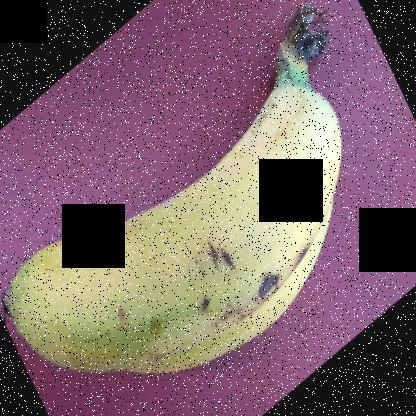ripe: (21, 61, 337, 355)
